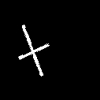single_crochet: (19, 25, 48, 75)
